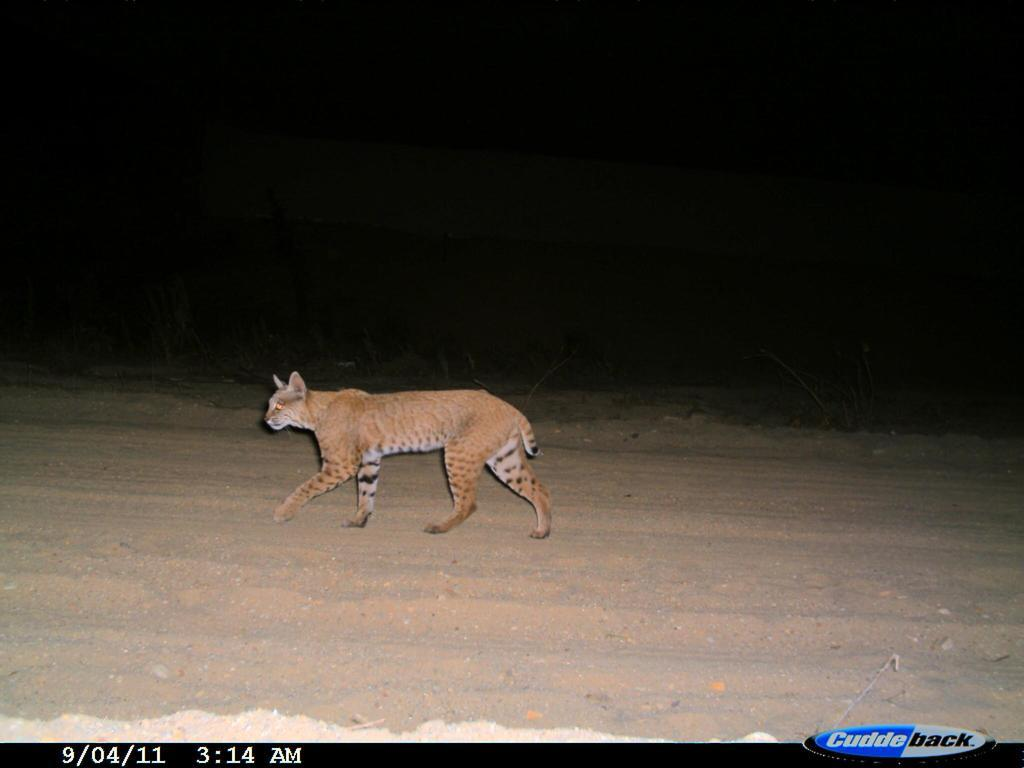bobcat: (260, 367, 559, 545)
